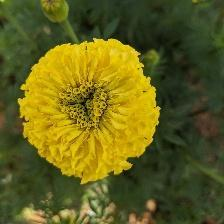marigold: (18, 36, 163, 188)
